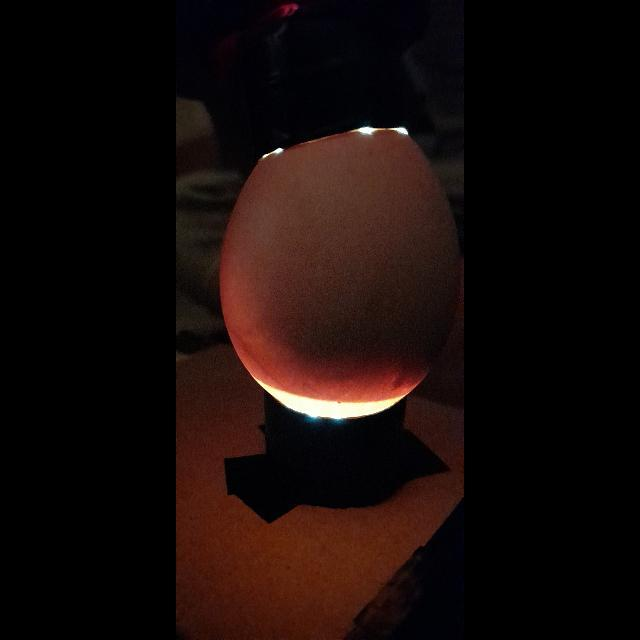Fertile: (215, 126, 445, 418)
